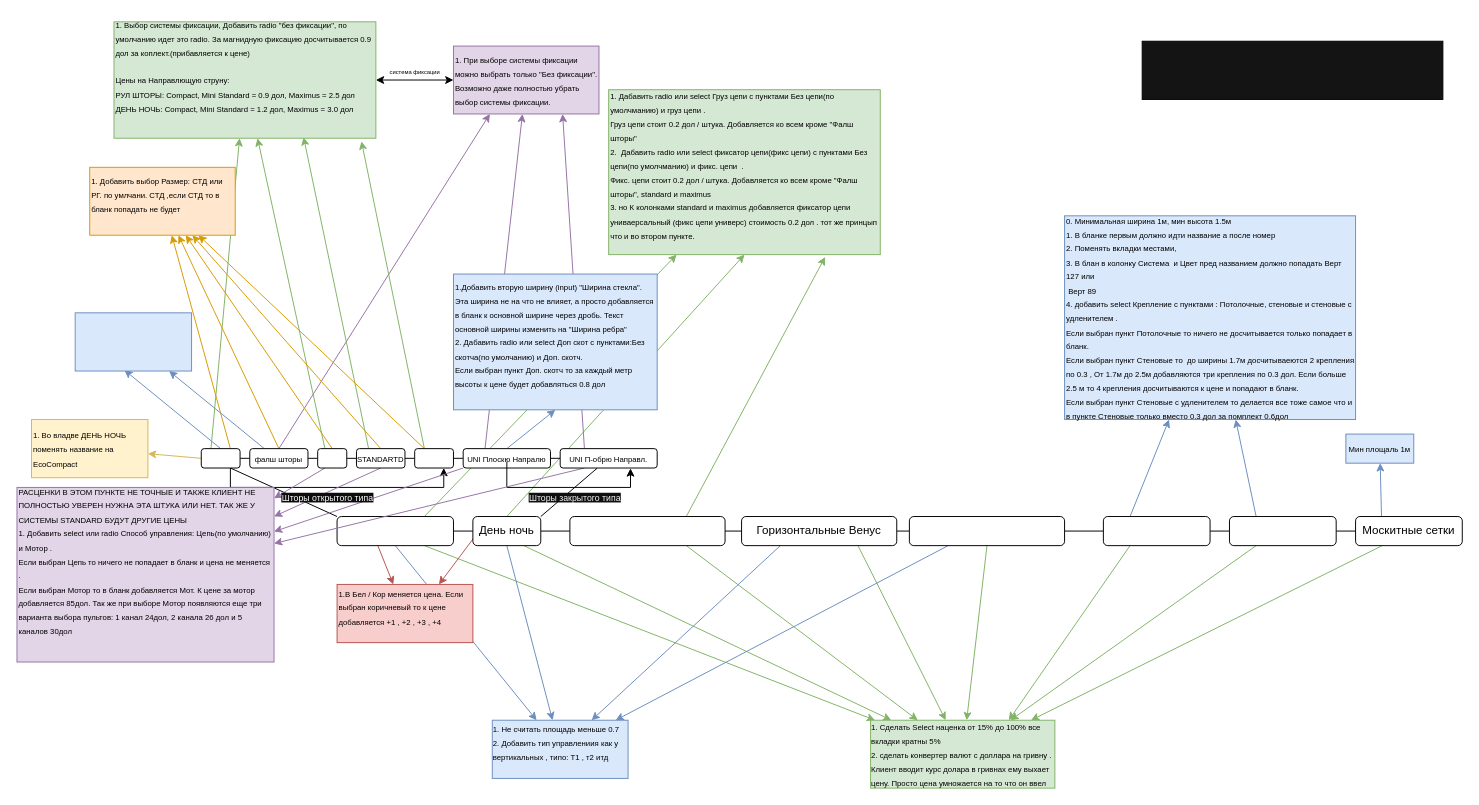
The diagram is 1479 pixels wide and 805 high, and some of its shapes have lost their labels. Each missing label, with the centre of its shape:
1.Разделить эти две системы. У них просто одинаковые расценки.: the point at 133,341
compact: the point at 220,458
MAXIMUS: the point at 433,458
MINI: the point at 332,458
Вертикальные 127: the point at 1282,531
Вертикальные 89: the point at 1156,531
Горизонтальные Стандарт: the point at 986,531
Готовые рулонные шторы: the point at 647,531
рулонные шторы: the point at 394,531
Черным цветом выделять пункты которые уже готов: the point at 1292,69
